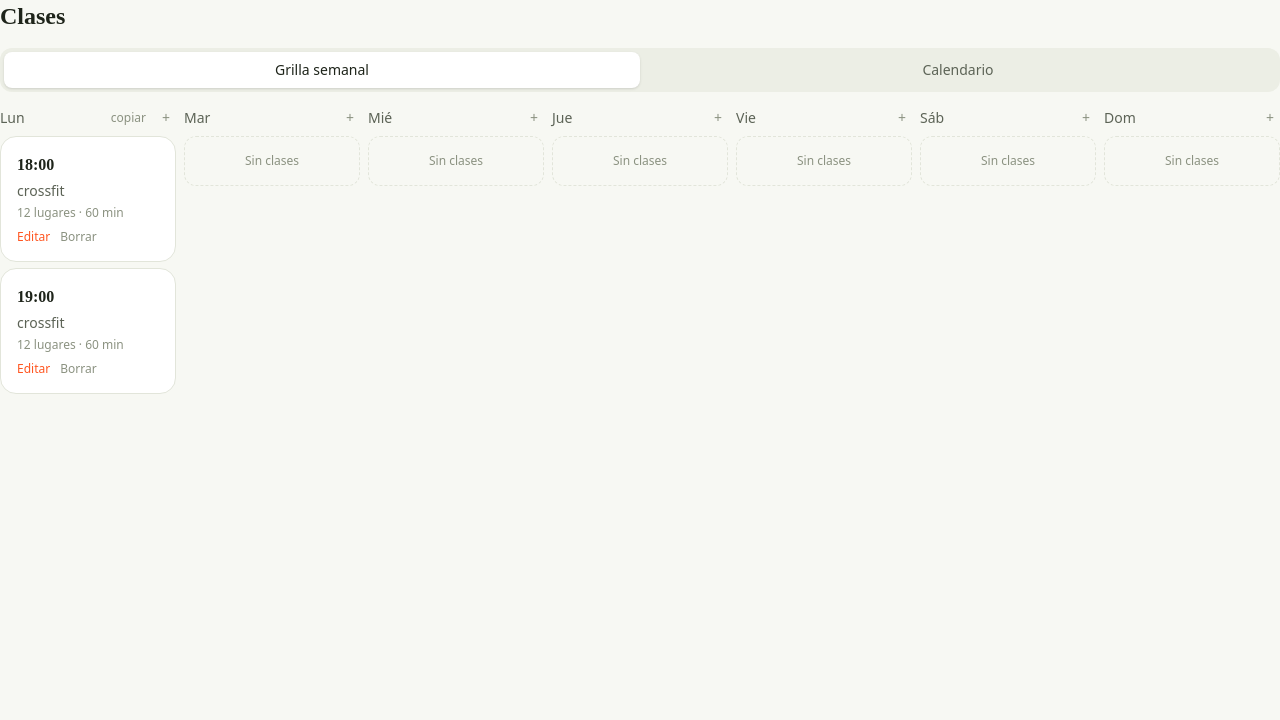
Test: Classes — grilla semanal (F3-06) › duplicar un día copia sus horarios al día elegido
The width and height of the screenshot is (1280, 720).
Click the button with aria-label "Duplicar Lunes".
click(128, 118)  # box [105, 108, 152, 128]
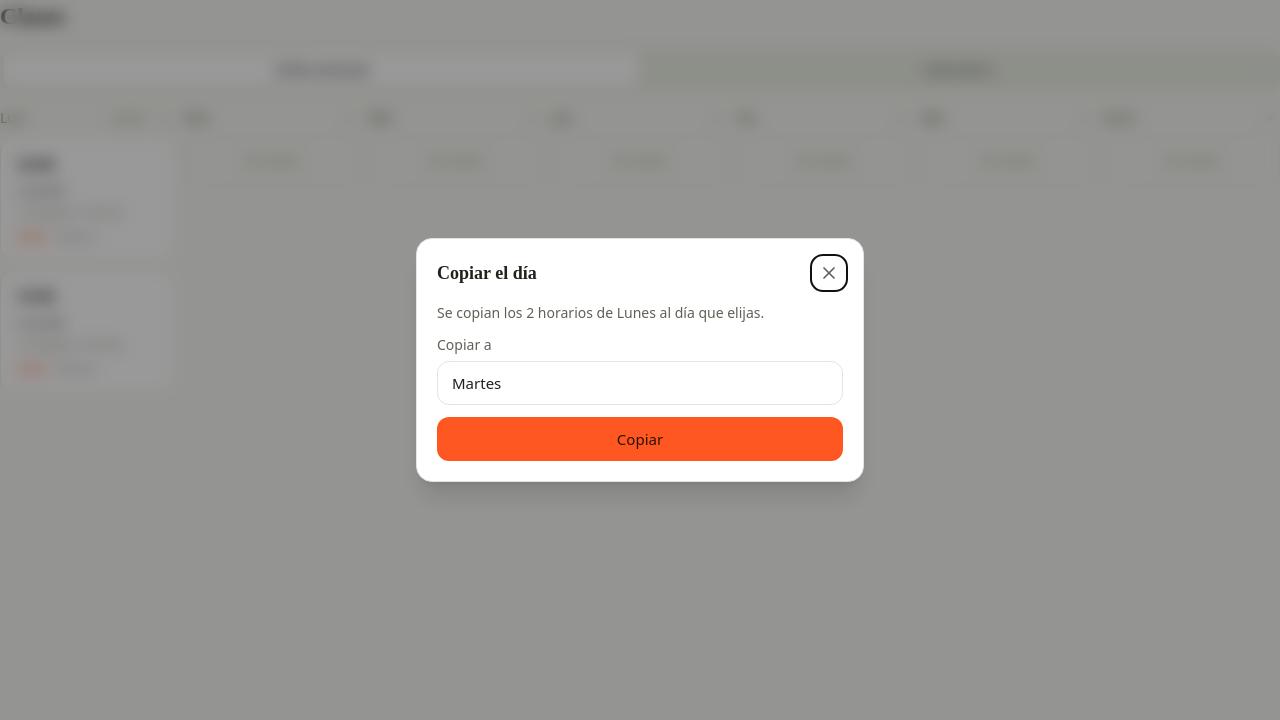
Select "Miércoles" in the dropdown labelled "Copiar a" at [640, 383], box [437, 361, 843, 405]
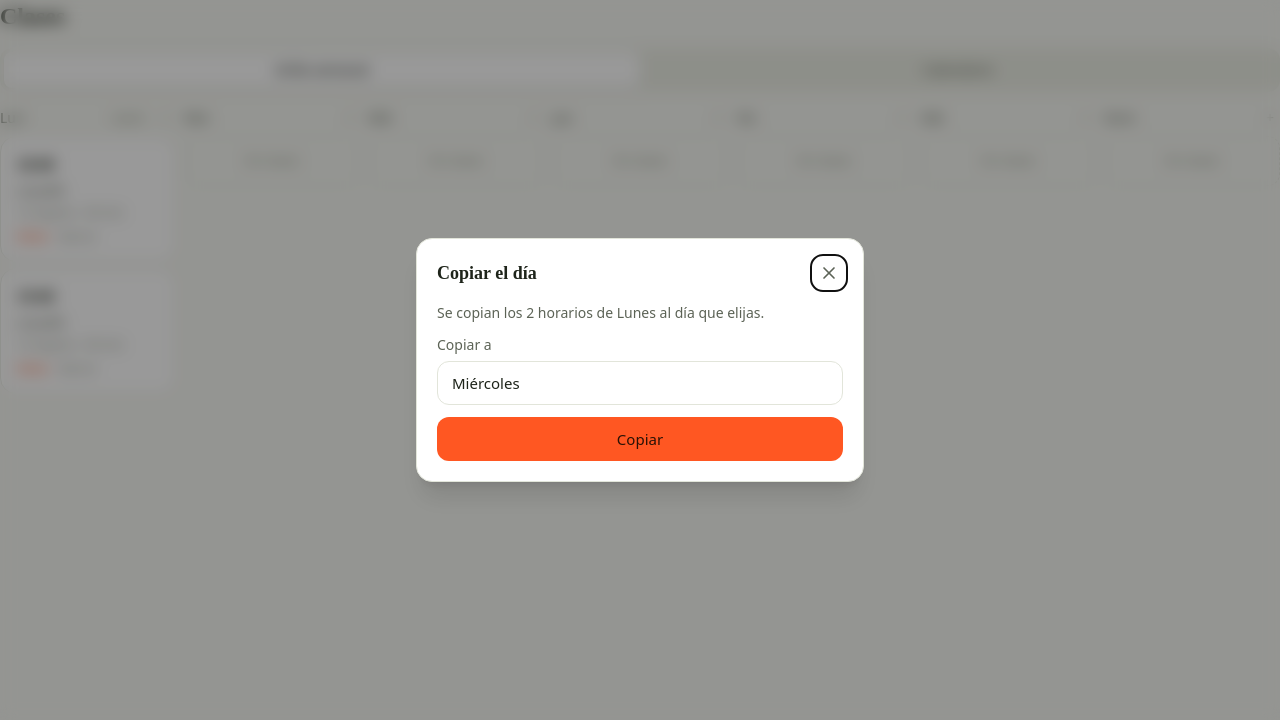
Click the button "Copiar".
click(640, 439)  # box [437, 417, 843, 461]
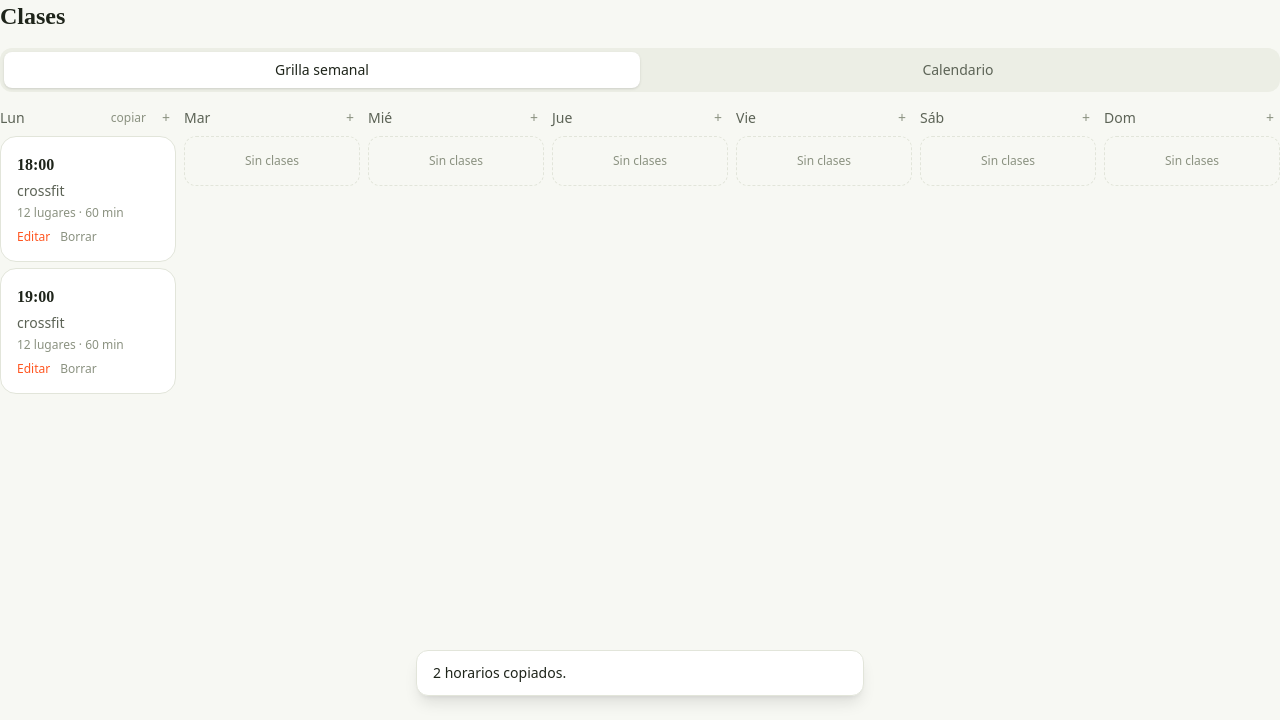
Expected: the text "2 horarios copiados." is shown, [416, 650, 864, 696]
